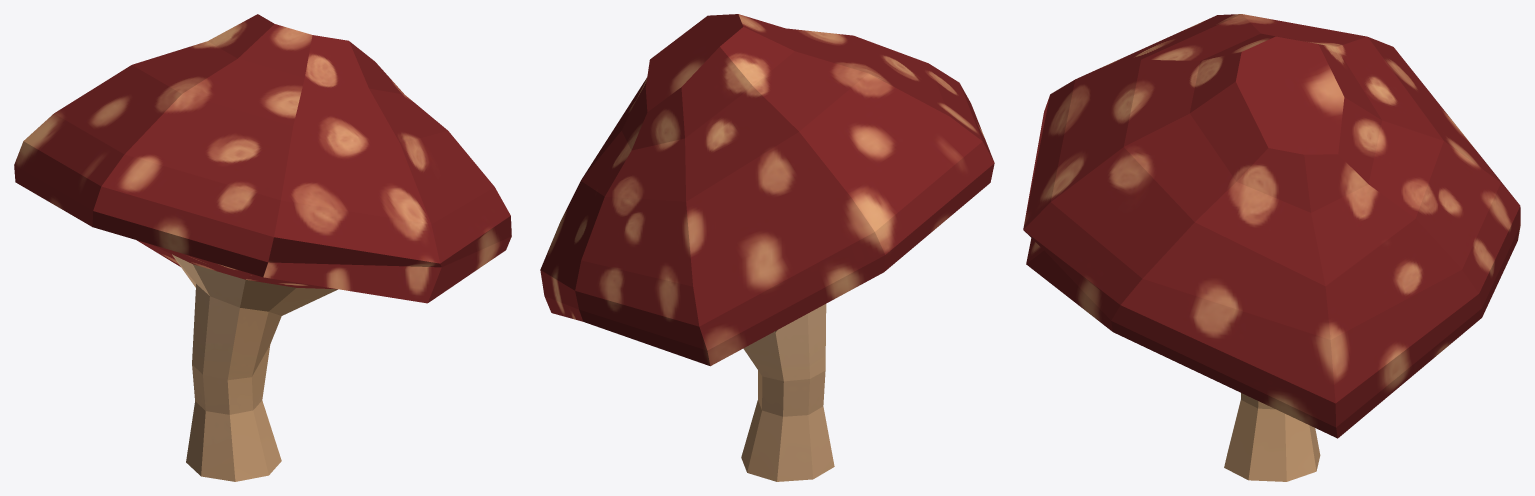
The model's file is redShroom1.fbx.
3 views of the same model, side by side, from view 1: azimuth 30°, elevation 25°; view 2: azimuth 150°, elevation 25°; view 3: azimuth 270°, elevation 25° (orthographic). The views are drawn at different scales.
Visible parts, largest first — view 1: BigRedShroom; view 2: BigRedShroom; view 3: BigRedShroom.
Part boxes in pixels (x1,y1,x2,y2): BigRedShroom: (14, 14, 511, 481); BigRedShroom: (540, 14, 994, 481); BigRedShroom: (1023, 14, 1520, 481).
Bounding box in the file's own units: 765 × 796 × 803.
